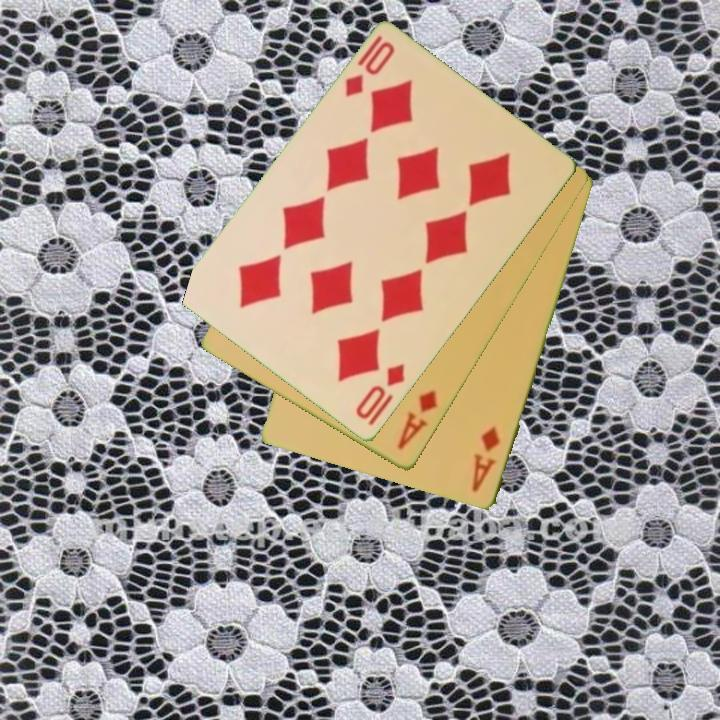10d: (352, 360, 408, 429), (341, 38, 398, 102)
Ad: (394, 387, 441, 454), (469, 423, 503, 495)
